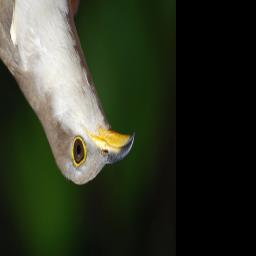Cuckoo: (0, 0, 135, 187)
